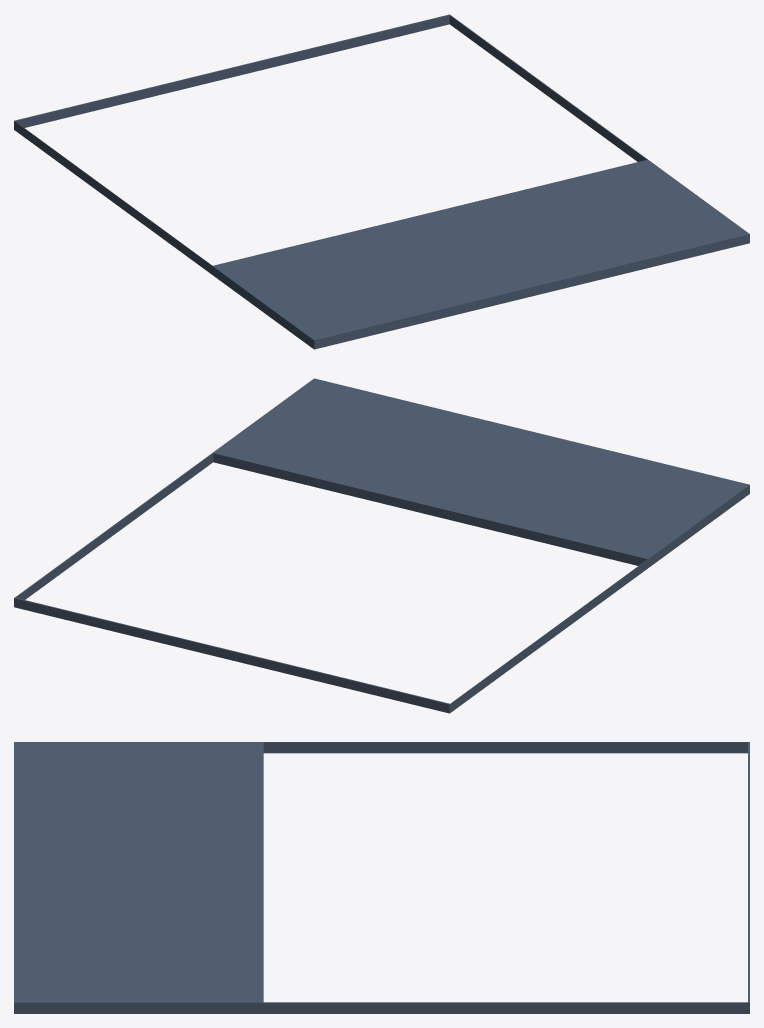
File: floor_geometry.obj
The picture shows the model from 3 angles, top to bottom: view 1: azimuth 30°, elevation 25°; view 2: azimuth 150°, elevation 25°; view 3: azimuth 270°, elevation 25°; orthographic projection. The views are drawn at different scales.
Visible parts, largest first — view 1: Floor_006_l_east_stair_protivopozharnyy_tambur_floor, Floor_002_l_east_stair_avariynaya_lestnica_floor, Floor_004_l_east_stair_avariynaya_lestnica_floor, Floor_001_l_east_stair_avariynaya_lestnica_floor, Floor_005_l_east_stair_protivopozharnyy_tambur_floor; view 2: Floor_006_l_east_stair_protivopozharnyy_tambur_floor, Floor_002_l_east_stair_avariynaya_lestnica_floor, Floor_003_l_east_stair_avariynaya_lestnica_floor, Floor_004_l_east_stair_avariynaya_lestnica_floor, Floor_001_l_east_stair_avariynaya_lestnica_floor, Floor_005_l_east_stair_protivopozharnyy_tambur_floor; view 3: Floor_006_l_east_stair_protivopozharnyy_tambur_floor, Floor_004_l_east_stair_avariynaya_lestnica_floor, Floor_001_l_east_stair_avariynaya_lestnica_floor, Floor_007_l_east_stair_protivopozharnyy_tambur_floor, Floor_002_l_east_stair_avariynaya_lestnica_floor.
Part boxes in pixels (x1,y1,x2,y2): Floor_006_l_east_stair_protivopozharnyy_tambur_floor: (213,160,748,349); Floor_002_l_east_stair_avariynaya_lestnica_floor: (15,14,449,127); Floor_004_l_east_stair_avariynaya_lestnica_floor: (449,14,647,161); Floor_001_l_east_stair_avariynaya_lestnica_floor: (14,120,212,274); Floor_005_l_east_stair_protivopozharnyy_tambur_floor: (212,266,314,349); Floor_006_l_east_stair_protivopozharnyy_tambur_floor: (214,378,748,558); Floor_002_l_east_stair_avariynaya_lestnica_floor: (15,598,449,713); Floor_003_l_east_stair_avariynaya_lestnica_floor: (213,453,647,565); Floor_004_l_east_stair_avariynaya_lestnica_floor: (14,453,213,607); Floor_001_l_east_stair_avariynaya_lestnica_floor: (449,559,648,713); Floor_005_l_east_stair_protivopozharnyy_tambur_floor: (648,484,749,567); Floor_006_l_east_stair_protivopozharnyy_tambur_floor: (14,742,263,1002); Floor_004_l_east_stair_avariynaya_lestnica_floor: (263,1002,749,1013); Floor_001_l_east_stair_avariynaya_lestnica_floor: (263,742,749,753); Floor_007_l_east_stair_protivopozharnyy_tambur_floor: (14,1002,263,1013); Floor_002_l_east_stair_avariynaya_lestnica_floor: (748,742,749,1002).
Size of the model in its own units: 10 by 0.2 by 11.93.
